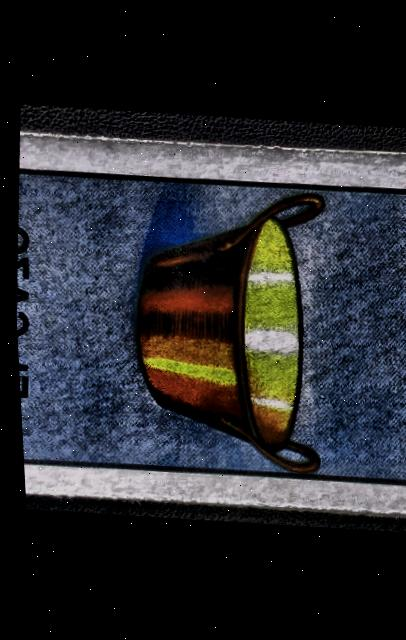El Cazo: (6, 144, 406, 505)
